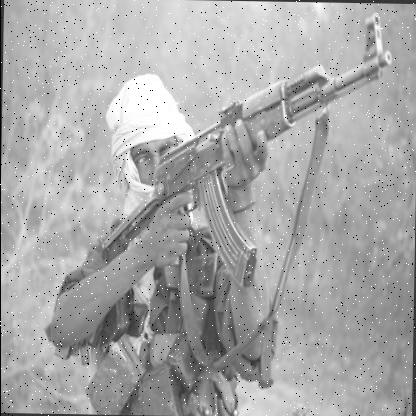rifle: (100, 22, 393, 297)
